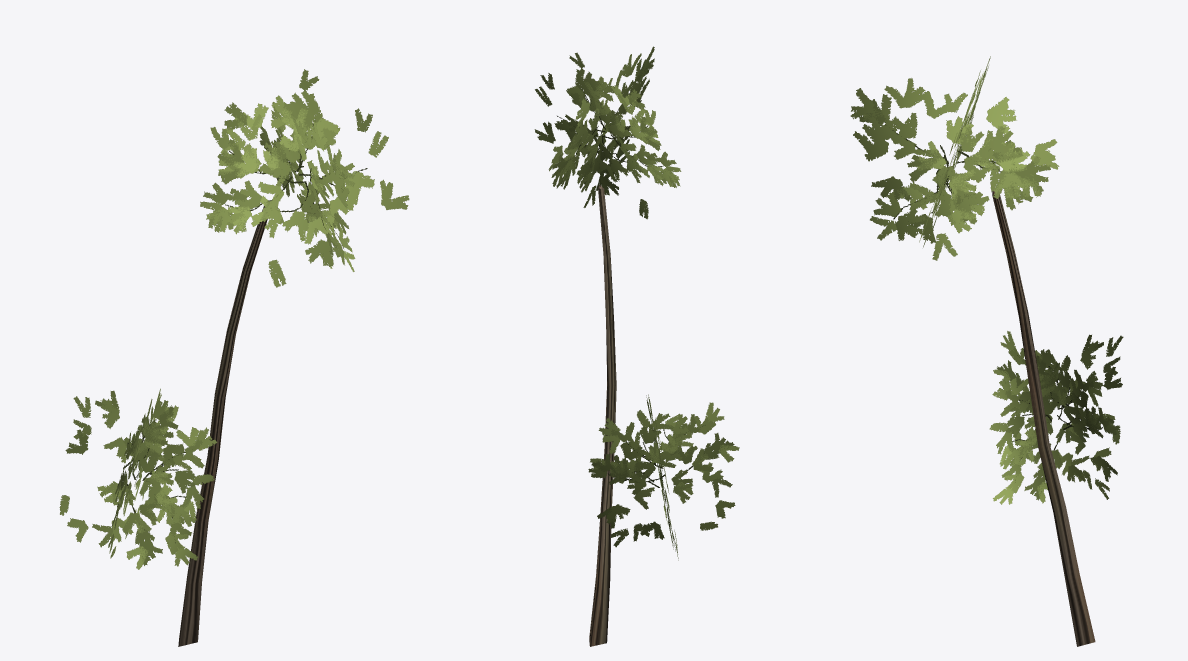
Rendered from seedling-c.lod1.glb.
3 views of the same model, side by side, from view 1: azimuth 30°, elevation 25°; view 2: azimuth 150°, elevation 25°; view 3: azimuth 270°, elevation 25° (orthographic). The views are drawn at different scales.
Parts seen in each view (by area): view 1: foliage, bark; view 2: foliage, bark; view 3: foliage, bark.
Boxes of the visible parts, box(x1,y1,x2,y2) form: foliage: box(59, 69, 409, 569); bark: box(178, 206, 267, 646); foliage: box(534, 46, 739, 560); bark: box(589, 185, 616, 646); foliage: box(850, 56, 1123, 504); bark: box(992, 191, 1095, 646).
Size of the model in its own units: 0.1944 by 0.35 by 0.1758.
2 materials, 2 textured.
